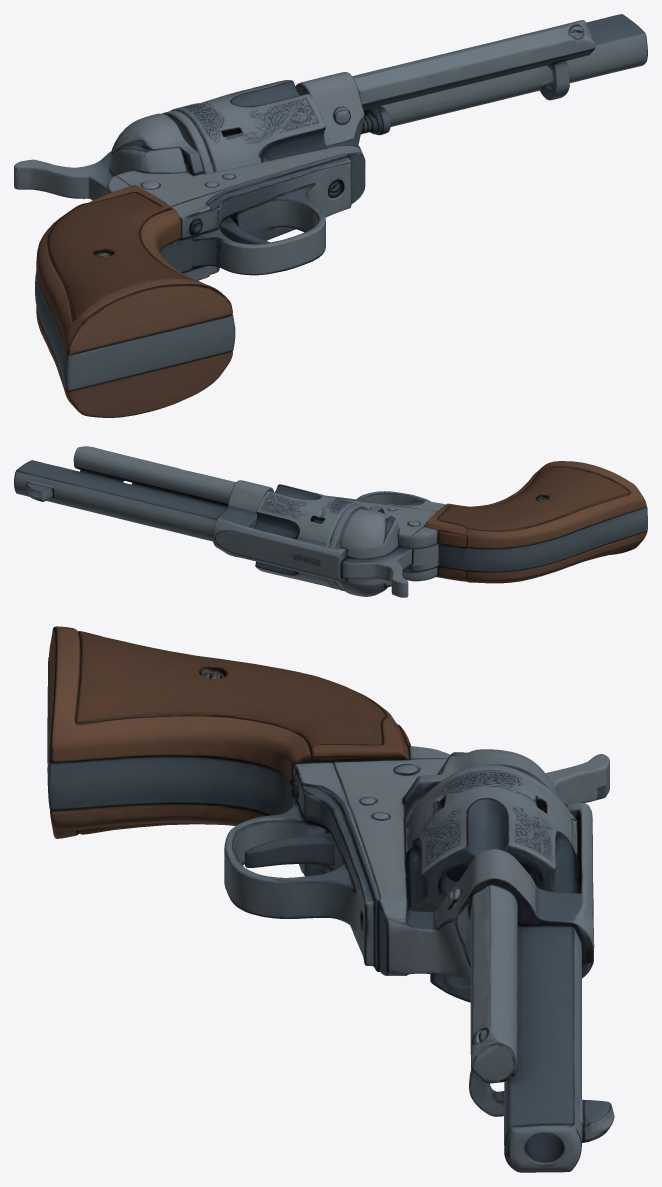
Rendered from Revolver.glb.
3 views of the same model, one above another, from view 1: azimuth 30°, elevation 25°; view 2: azimuth 150°, elevation 25°; view 3: azimuth 270°, elevation 25° (orthographic). The views are drawn at different scales.
Parts seen in each view (by area): view 1: tripo_node_2deb162e-3570-4822-87b3-66967dfcef49; view 2: tripo_node_2deb162e-3570-4822-87b3-66967dfcef49; view 3: tripo_node_2deb162e-3570-4822-87b3-66967dfcef49.
Boxes of the visible parts, left/top/right/bottom form: tripo_node_2deb162e-3570-4822-87b3-66967dfcef49: left=14, top=14, right=647, bottom=417; tripo_node_2deb162e-3570-4822-87b3-66967dfcef49: left=14, top=446, right=647, bottom=597; tripo_node_2deb162e-3570-4822-87b3-66967dfcef49: left=47, top=626, right=614, bottom=1172.
Bounding box in the file's own units: 1 × 0.1682 × 0.4875.
Materials: 1 (1 with a texture image).
